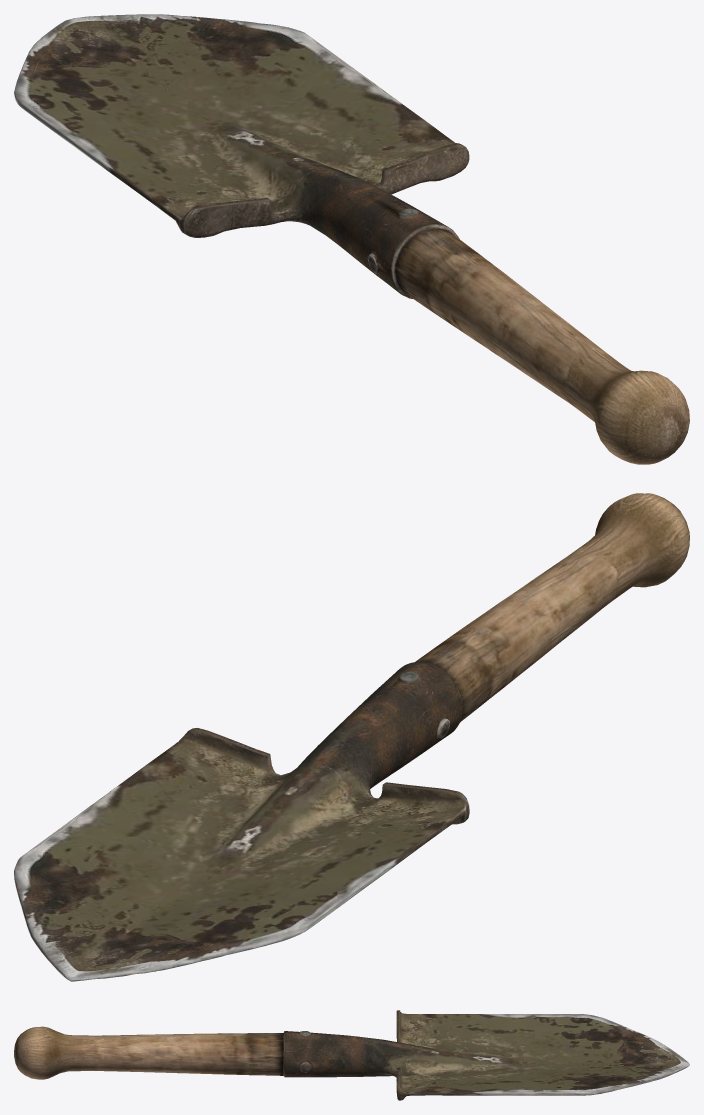
File: trench_spade.4541e564.glb
3 views of the same model, one above another, from view 1: azimuth 30°, elevation 25°; view 2: azimuth 150°, elevation 25°; view 3: azimuth 270°, elevation 25° (orthographic). The views are drawn at different scales.
Visible parts, largest first — view 1: item; view 2: item; view 3: item.
Boxes of the visible parts, x1,y1,x2,y2 form: item: [14, 14, 689, 464]; item: [14, 493, 689, 981]; item: [14, 1010, 689, 1100].
Size of the model in its own units: 0.2084 by 0.059 by 0.7499.
Materials: 1 (1 with a texture image).
